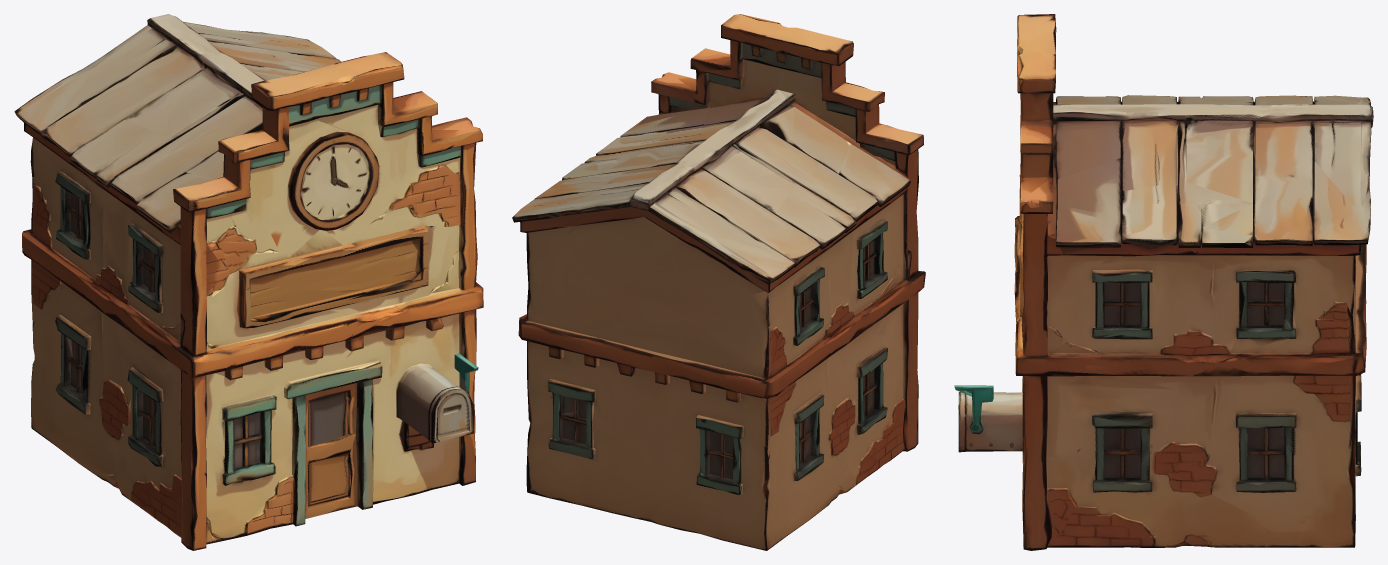
File: wl_poste.glb
The picture shows the model from 3 angles, left to right: view 1: azimuth 30°, elevation 25°; view 2: azimuth 150°, elevation 25°; view 3: azimuth 270°, elevation 25°; orthographic projection. The views are drawn at different scales.
Visible parts, largest first — view 1: wl_poste; view 2: wl_poste; view 3: wl_poste.
Boxes of the visible parts, x1,y1,x2,y2 form: wl_poste: (14, 14, 483, 550); wl_poste: (512, 14, 925, 550); wl_poste: (954, 14, 1373, 550).
Size of the model in its own units: 6.11 by 8.5 by 7.38.
Materials: 1 (1 with a texture image).
